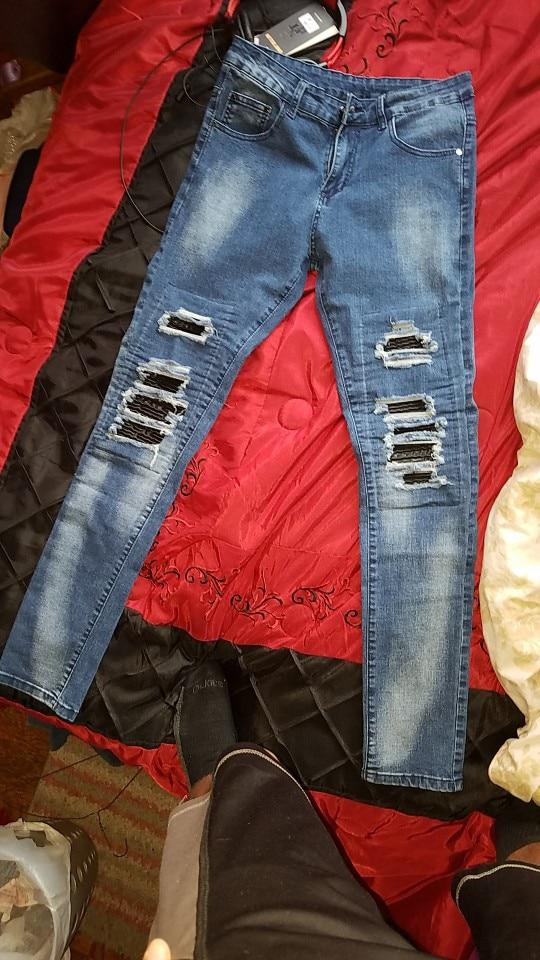jeans: (22, 38, 491, 806)
